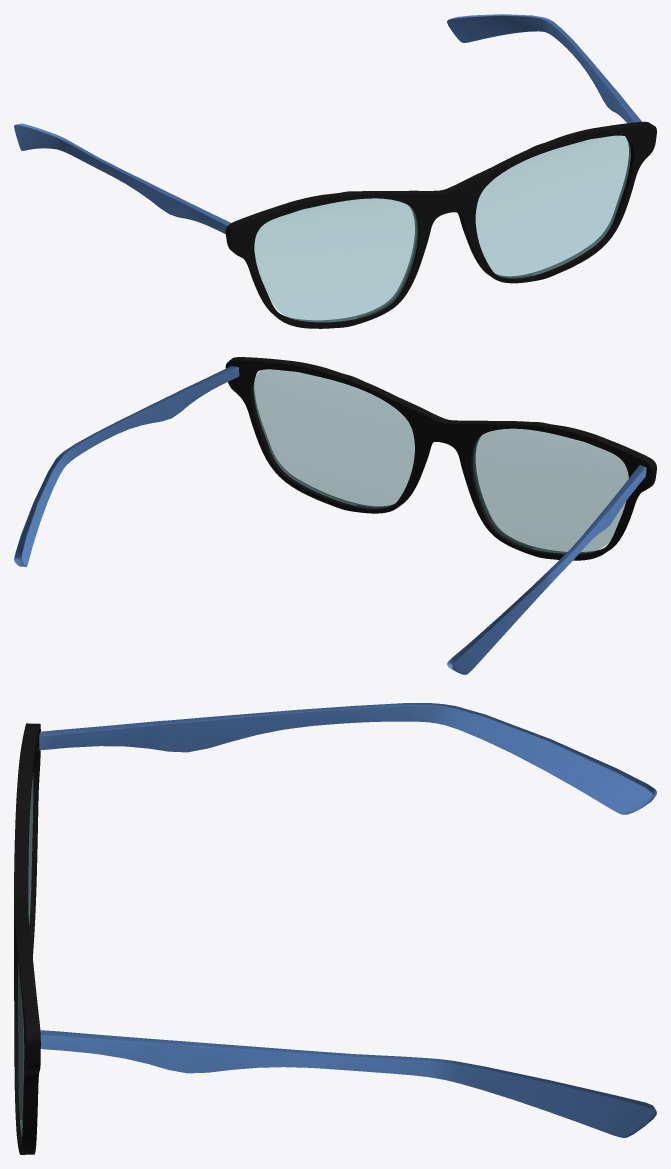
File: romy.glb
The picture shows the model from 3 angles, top to bottom: view 1: azimuth 30°, elevation 25°; view 2: azimuth 150°, elevation 25°; view 3: azimuth 270°, elevation 25°; orthographic projection. The views are drawn at different scales.
Visible parts, largest first — view 1: Verres, monture.001, branches, monture; view 2: Verres, monture, branches, monture.001; view 3: branches, monture, monture.001, Verres.
Part boxes in pixels (bbox=[...]): Verres: bbox=[254, 135, 630, 322]; monture.001: bbox=[225, 121, 656, 328]; branches: bbox=[14, 14, 641, 233]; monture: bbox=[225, 128, 656, 328]; Verres: bbox=[253, 369, 628, 553]; monture: bbox=[225, 360, 656, 560]; branches: bbox=[14, 366, 646, 674]; monture.001: bbox=[225, 357, 656, 560]; branches: bbox=[39, 703, 656, 1137]; monture: bbox=[14, 724, 40, 1154]; monture.001: bbox=[14, 723, 40, 1154]; Verres: bbox=[18, 773, 33, 1136].
Bounding box in the file's own units: 1.95 × 0.5076 × 1.47.
